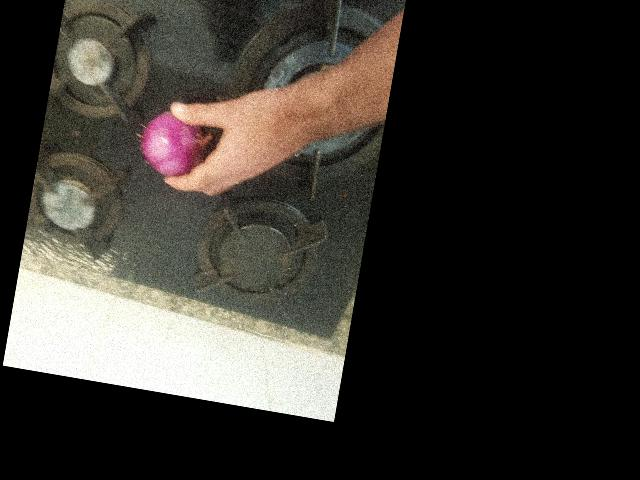onion: (145, 112, 211, 183)
